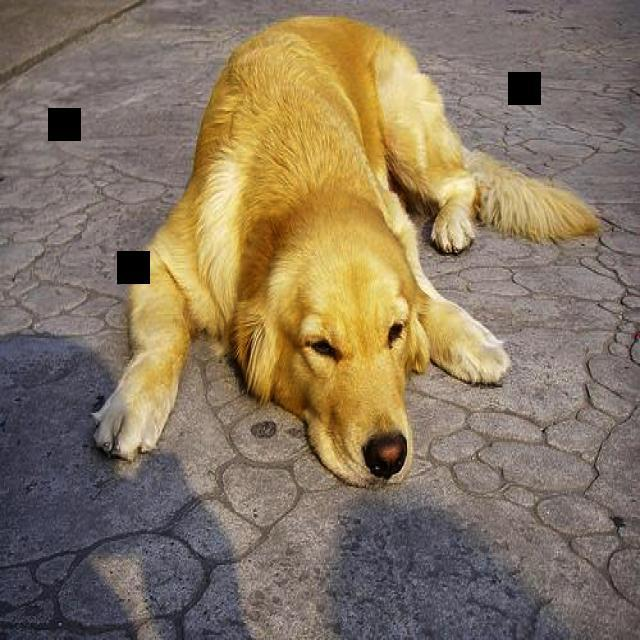adult_dog: (92, 16, 603, 490)
